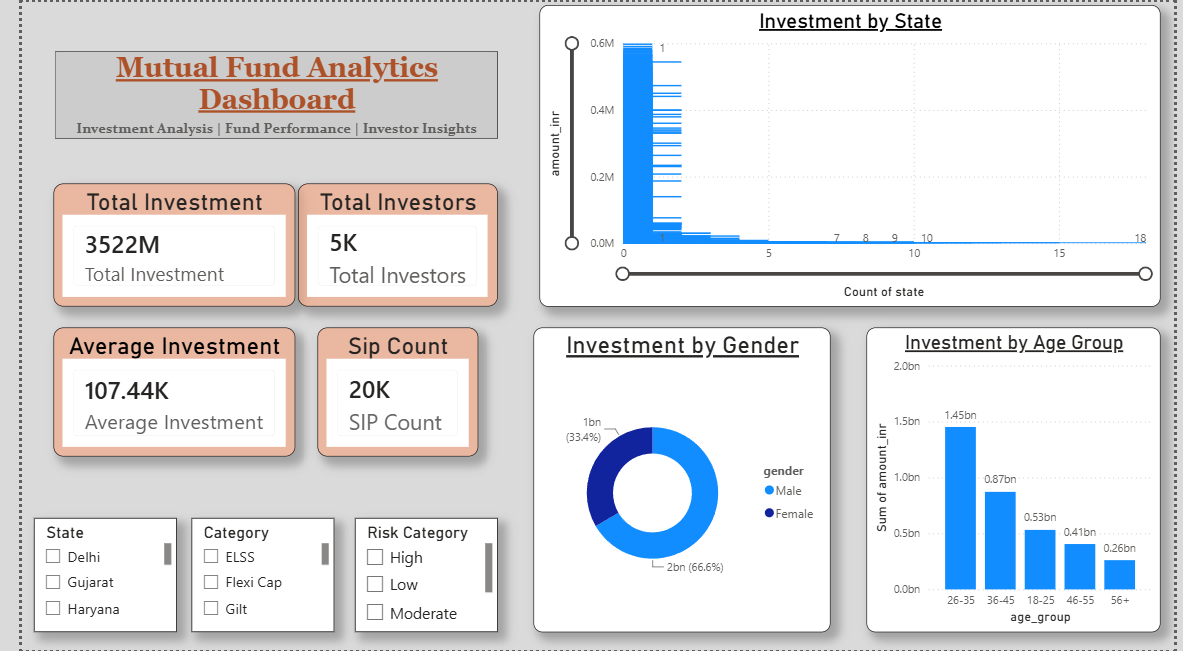

The page's visual inventory and layout, read from the dashboard file:
{"tool":"powerbi","page":{"name":"Mutual Fund Analytics Dashboard","canvas":[1280,720],"ordinal":0},"visuals":[{"type":"cardVisual","title":"Total Investment","fields":{"Data":["dashboard_dataset.Total Investment"]},"box":[35,201.7,268.3,136.7],"z":0},{"type":"cardVisual","title":"Total Investors","fields":{"Data":["dashboard_dataset.Total Investors"]},"box":[306.7,201.7,221.7,136.7],"z":1000},{"type":"cardVisual","title":"Average Investment","fields":{"Data":["dashboard_dataset.Average Investment"]},"box":[35,361.7,268.3,143.3],"z":2000},{"type":"cardVisual","title":"Sip Count","fields":{"Data":["dashboard_dataset.SIP Count"]},"box":[328.3,361.7,178.3,143.3],"z":3000},{"type":"clusteredBarChart","title":"Investment by State","fields":{"Y":["CountNonNull(dashboard_dataset.state)"],"Category":["dashboard_dataset.amount_inr"]},"box":[575,3.3,690,335],"z":4000},{"type":"clusteredColumnChart","title":"Investment by Age Group","fields":{"Category":["dashboard_dataset.age_group"],"Y":["Sum(dashboard_dataset.amount_inr)"]},"box":[938.3,361.7,326.7,338.3],"z":5000},{"type":"donutChart","title":"Investment by Gender","fields":{"Y":["Sum(dashboard_dataset.amount_inr)"],"Category":["dashboard_dataset.gender"]},"box":[568.3,361.7,330,338.3],"z":6000},{"type":"slicer","fields":{"Values":["dashboard_dataset.state"]},"box":[13.3,573.3,158.3,126.7],"z":7000},{"type":"slicer","fields":{"Values":["dashboard_dataset.risk_category"]},"box":[370,573.3,158.3,126.7],"z":8000},{"type":"slicer","fields":{"Values":["dashboard_dataset.category_y"]},"box":[188.3,573.3,158.3,126.7],"z":9000},{"type":"textbox","title":"Mutual Fund Analytics Dashboard","box":[36.7,55,491.7,96.7],"z":9001}]}

Visuals, with their boxes in screenshot pixels (x1, y1, x2, y2), scaled from the page's 1280x720 canvas onto the 1183x651 screenshot:
"Total Investment" cardVisual: select_region(32, 182, 280, 306)
"Total Investors" cardVisual: select_region(283, 182, 488, 306)
"Average Investment" cardVisual: select_region(32, 327, 280, 457)
"Sip Count" cardVisual: select_region(303, 327, 468, 457)
"Investment by State" clusteredBarChart: select_region(531, 3, 1169, 306)
"Investment by Age Group" clusteredColumnChart: select_region(867, 327, 1169, 633)
"Investment by Gender" donutChart: select_region(525, 327, 830, 633)
slicer - dashboard_dataset.state: select_region(12, 518, 159, 633)
slicer - dashboard_dataset.risk_category: select_region(342, 518, 488, 633)
slicer - dashboard_dataset.category_y: select_region(174, 518, 320, 633)
"Mutual Fund Analytics Dashboard" textbox: select_region(34, 50, 488, 137)
